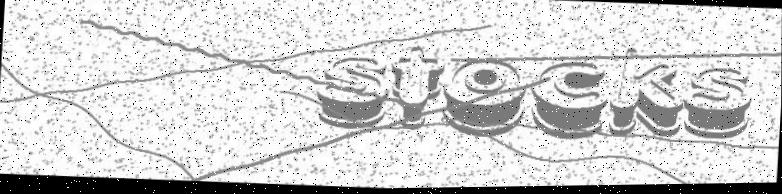c: (522, 50, 609, 149)
k: (602, 42, 690, 153)
o: (438, 52, 533, 145)
s: (308, 47, 396, 134), (682, 64, 755, 151)
t: (384, 39, 448, 140)
